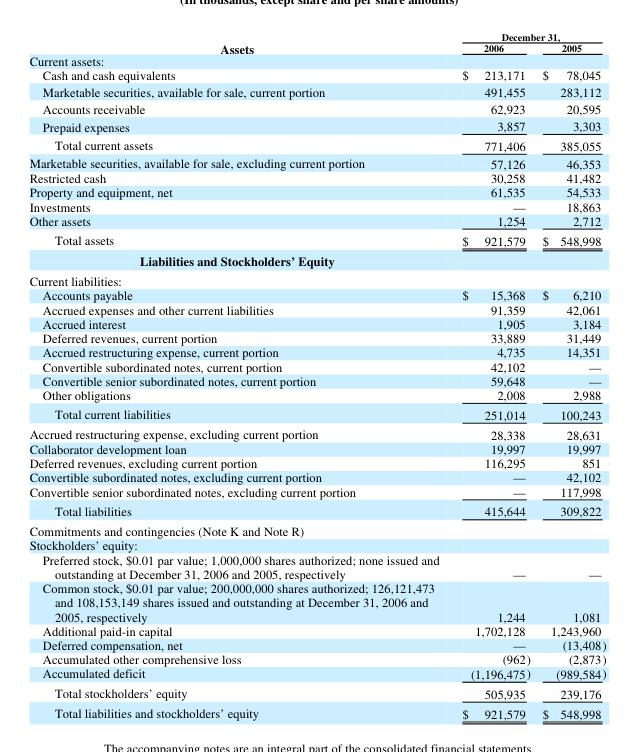table: (28, 29, 605, 721)
table column: (28, 29, 450, 721), (450, 29, 535, 721), (535, 29, 605, 721)
table column header: (28, 29, 605, 54)
table projected row header: (28, 250, 605, 270), (28, 270, 605, 287), (28, 520, 605, 537), (28, 537, 605, 551), (28, 54, 605, 67)
table row: (28, 580, 605, 622), (28, 551, 605, 580), (28, 229, 605, 250), (28, 250, 605, 270), (28, 403, 605, 423), (28, 500, 605, 520), (28, 682, 605, 702), (28, 116, 605, 135), (28, 702, 605, 721), (28, 135, 605, 153), (28, 83, 605, 100), (28, 153, 605, 170), (28, 212, 605, 229), (28, 270, 605, 287), (28, 423, 605, 440), (28, 483, 605, 500), (28, 520, 605, 537), (28, 665, 605, 682), (28, 67, 605, 83), (28, 100, 605, 116), (28, 387, 605, 403), (28, 315, 605, 330), (28, 372, 605, 387), (28, 440, 605, 455), (28, 622, 605, 637), (28, 170, 605, 184), (28, 184, 605, 198), (28, 198, 605, 212), (28, 287, 605, 301), (28, 301, 605, 315), (28, 330, 605, 344), (28, 344, 605, 358), (28, 358, 605, 372), (28, 455, 605, 469), (28, 469, 605, 483), (28, 537, 605, 551), (28, 637, 605, 651), (28, 651, 605, 665), (28, 41, 605, 54), (28, 54, 605, 67), (28, 29, 605, 41)
table spanning cell: (28, 29, 450, 54), (450, 29, 605, 41)
